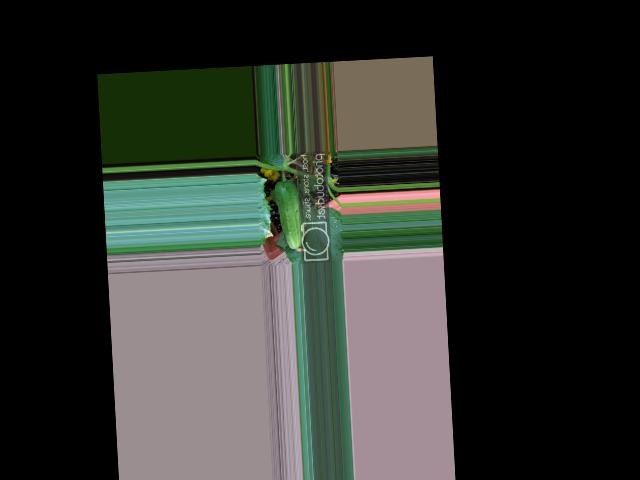cucumber: (274, 180, 305, 250)
